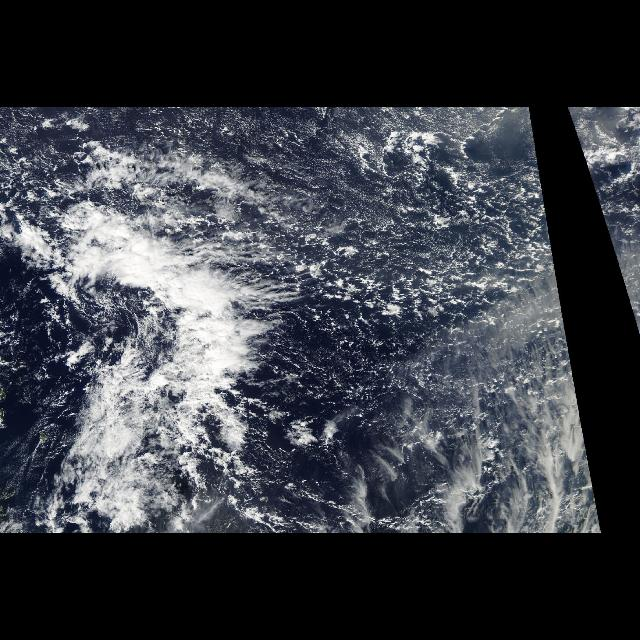Gravel: (227, 132, 558, 422)
Sugar: (4, 108, 536, 356)
